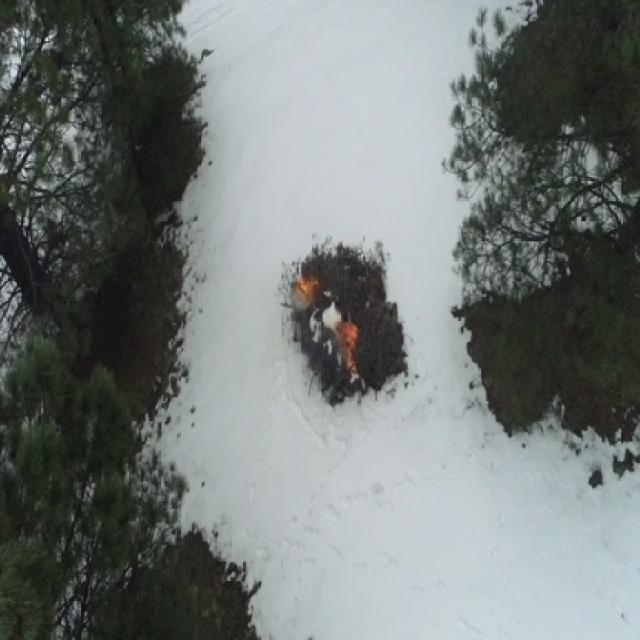Fire: (297, 278, 322, 300), (338, 321, 358, 343), (345, 346, 356, 369)
